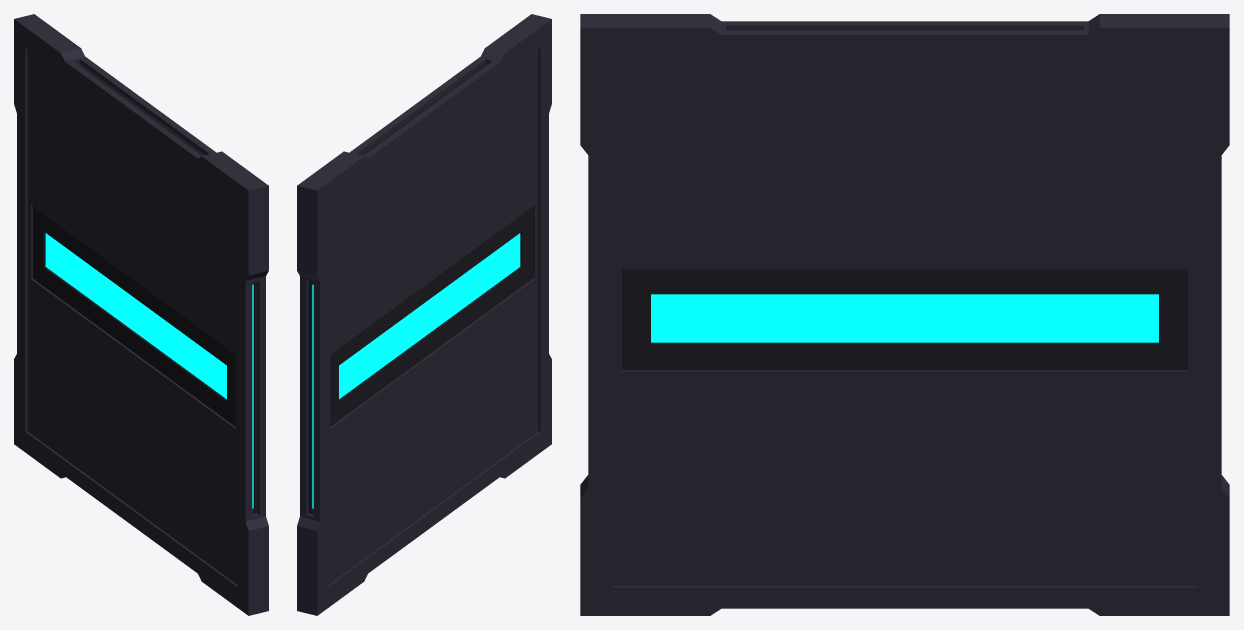
The model's file is SM_Wall_Straight.fbx.
3 renders of one model, left to right at view 1: azimuth 30°, elevation 25°; view 2: azimuth 150°, elevation 25°; view 3: azimuth 270°, elevation 25°, orthographic. The views are drawn at different scales.
Visible parts, largest first — view 1: SM_Wall_Straight; view 2: SM_Wall_Straight; view 3: SM_Wall_Straight.
Boxes of the visible parts, x1,y1,x2,y2 form: SM_Wall_Straight: (14, 14, 268, 615); SM_Wall_Straight: (297, 14, 551, 615); SM_Wall_Straight: (580, 14, 1229, 615).
Size of the model in its own units: 10 by 200 by 200.
